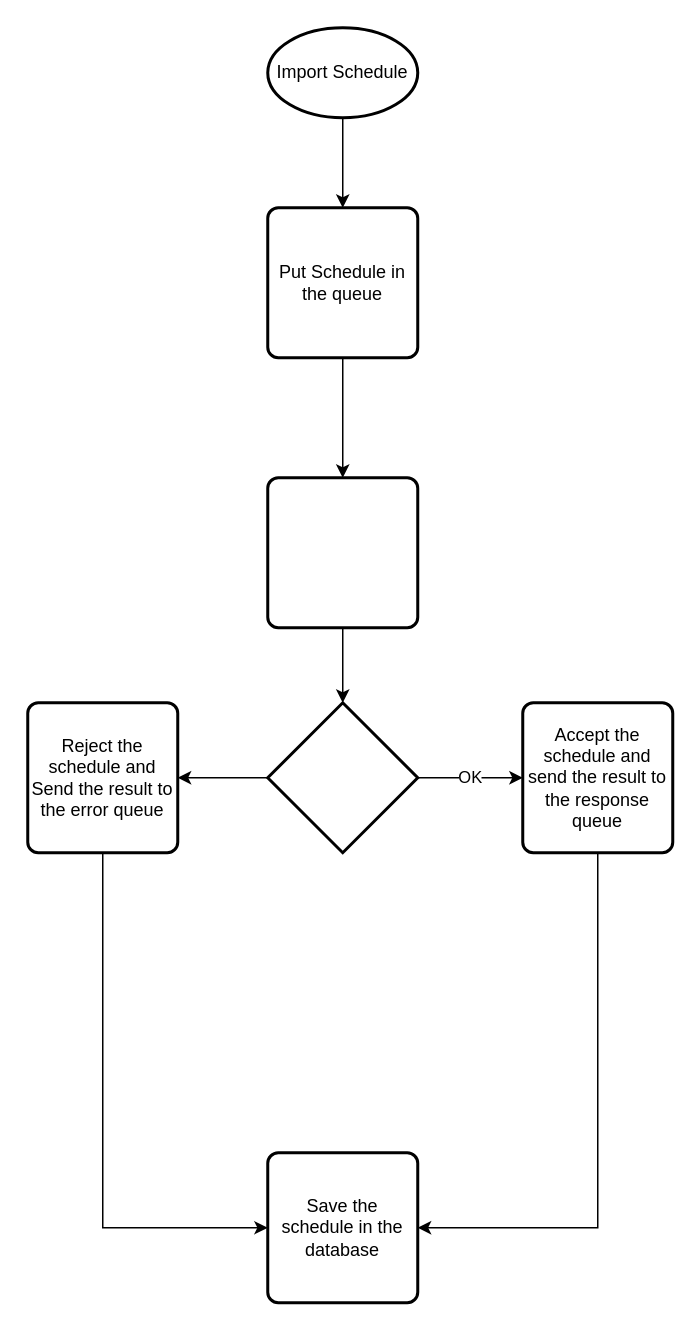
This 699x1329 diagram has some shape labels left out. The shapes that lost their labels are listed below. From the top down, each one's centre as x and y in pixels, then its label:
At point 342,552: "Listener start processing the message".
At point 342,777: "Validation".
